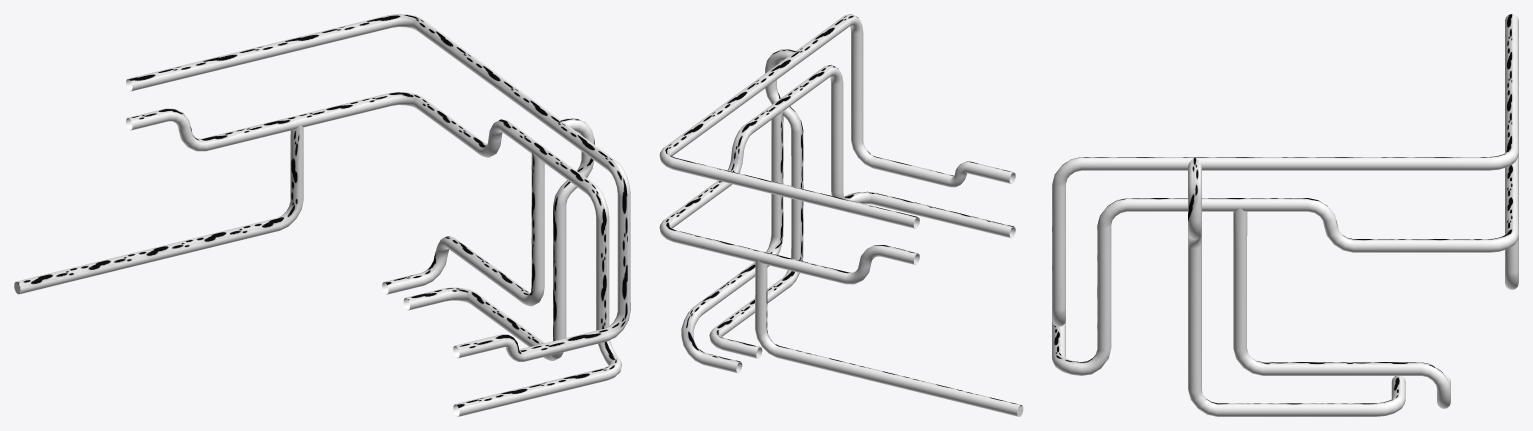
File: Pipes_Air.fbx
3 renders of one model, left to right at view 1: azimuth 30°, elevation 25°; view 2: azimuth 150°, elevation 25°; view 3: azimuth 270°, elevation 25°, orthographic. The views are drawn at different scales.
Parts seen in each view (by area): view 1: Air0, Air2, Air1; view 2: Air0, Air2, Air1; view 3: Air0, Air2, Air1.
Boxes of the visible parts, x1=… form: Air0: x1=14, y1=92, x2=621, y2=416; Air2: x1=352, y1=14, x2=630, y2=361; Air1: x1=126, y1=24, x2=356, y2=91; Air0: x1=659, y1=49, x2=1023, y2=416; Air2: x1=659, y1=14, x2=1015, y2=187; Air1: x1=706, y1=166, x2=919, y2=228; Air0: x1=1052, y1=154, x2=1518, y2=416; Air2: x1=1052, y1=129, x2=1518, y2=326; Air1: x1=1505, y1=14, x2=1518, y2=134.
Size of the model in its own units: 228 by 126 by 206.
3 materials, 3 textured.
